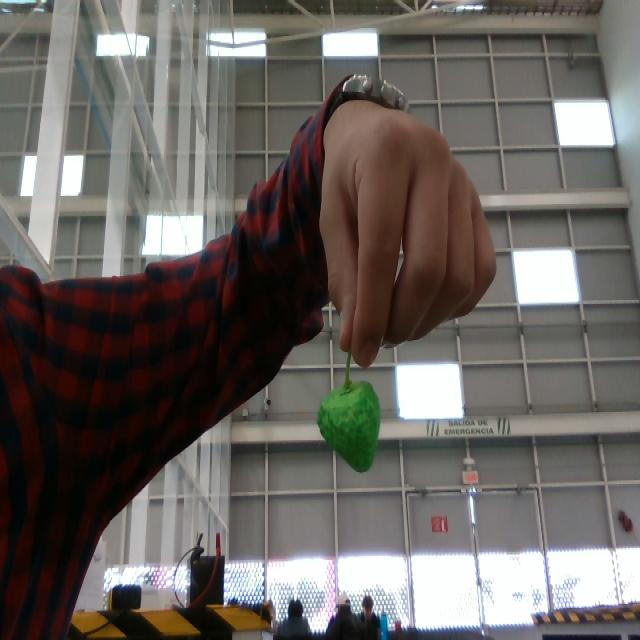verde: (319, 380, 383, 476)
